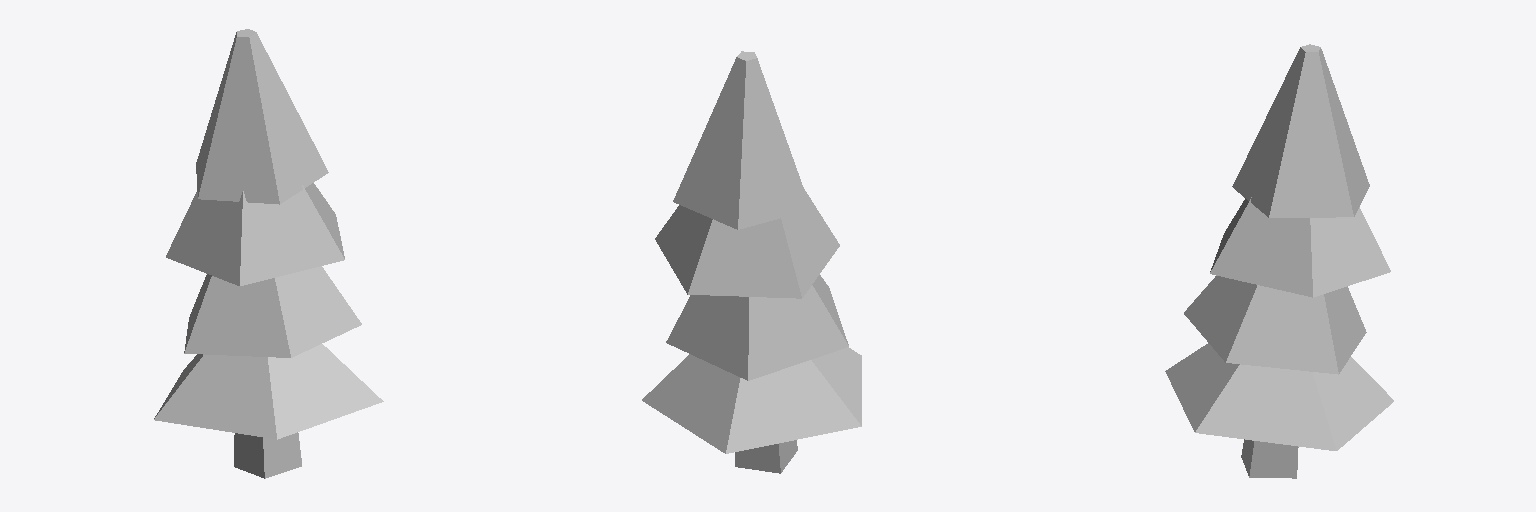
The model's file is tree_02.obj.
3 views of the same model, side by side, from view 1: azimuth 30°, elevation 25°; view 2: azimuth 150°, elevation 25°; view 3: azimuth 270°, elevation 25° (orthographic).
Parts seen in each view (by area): view 1: Cube.004; view 2: Cube.004; view 3: Cube.004.
Boxes of the visible parts, <box> form: Cube.004: <box>154,29,383,478</box>; Cube.004: <box>642,51,861,473</box>; Cube.004: <box>1165,44,1393,478</box>.
Size of the model in its own units: 2.47 by 5.06 by 2.5.